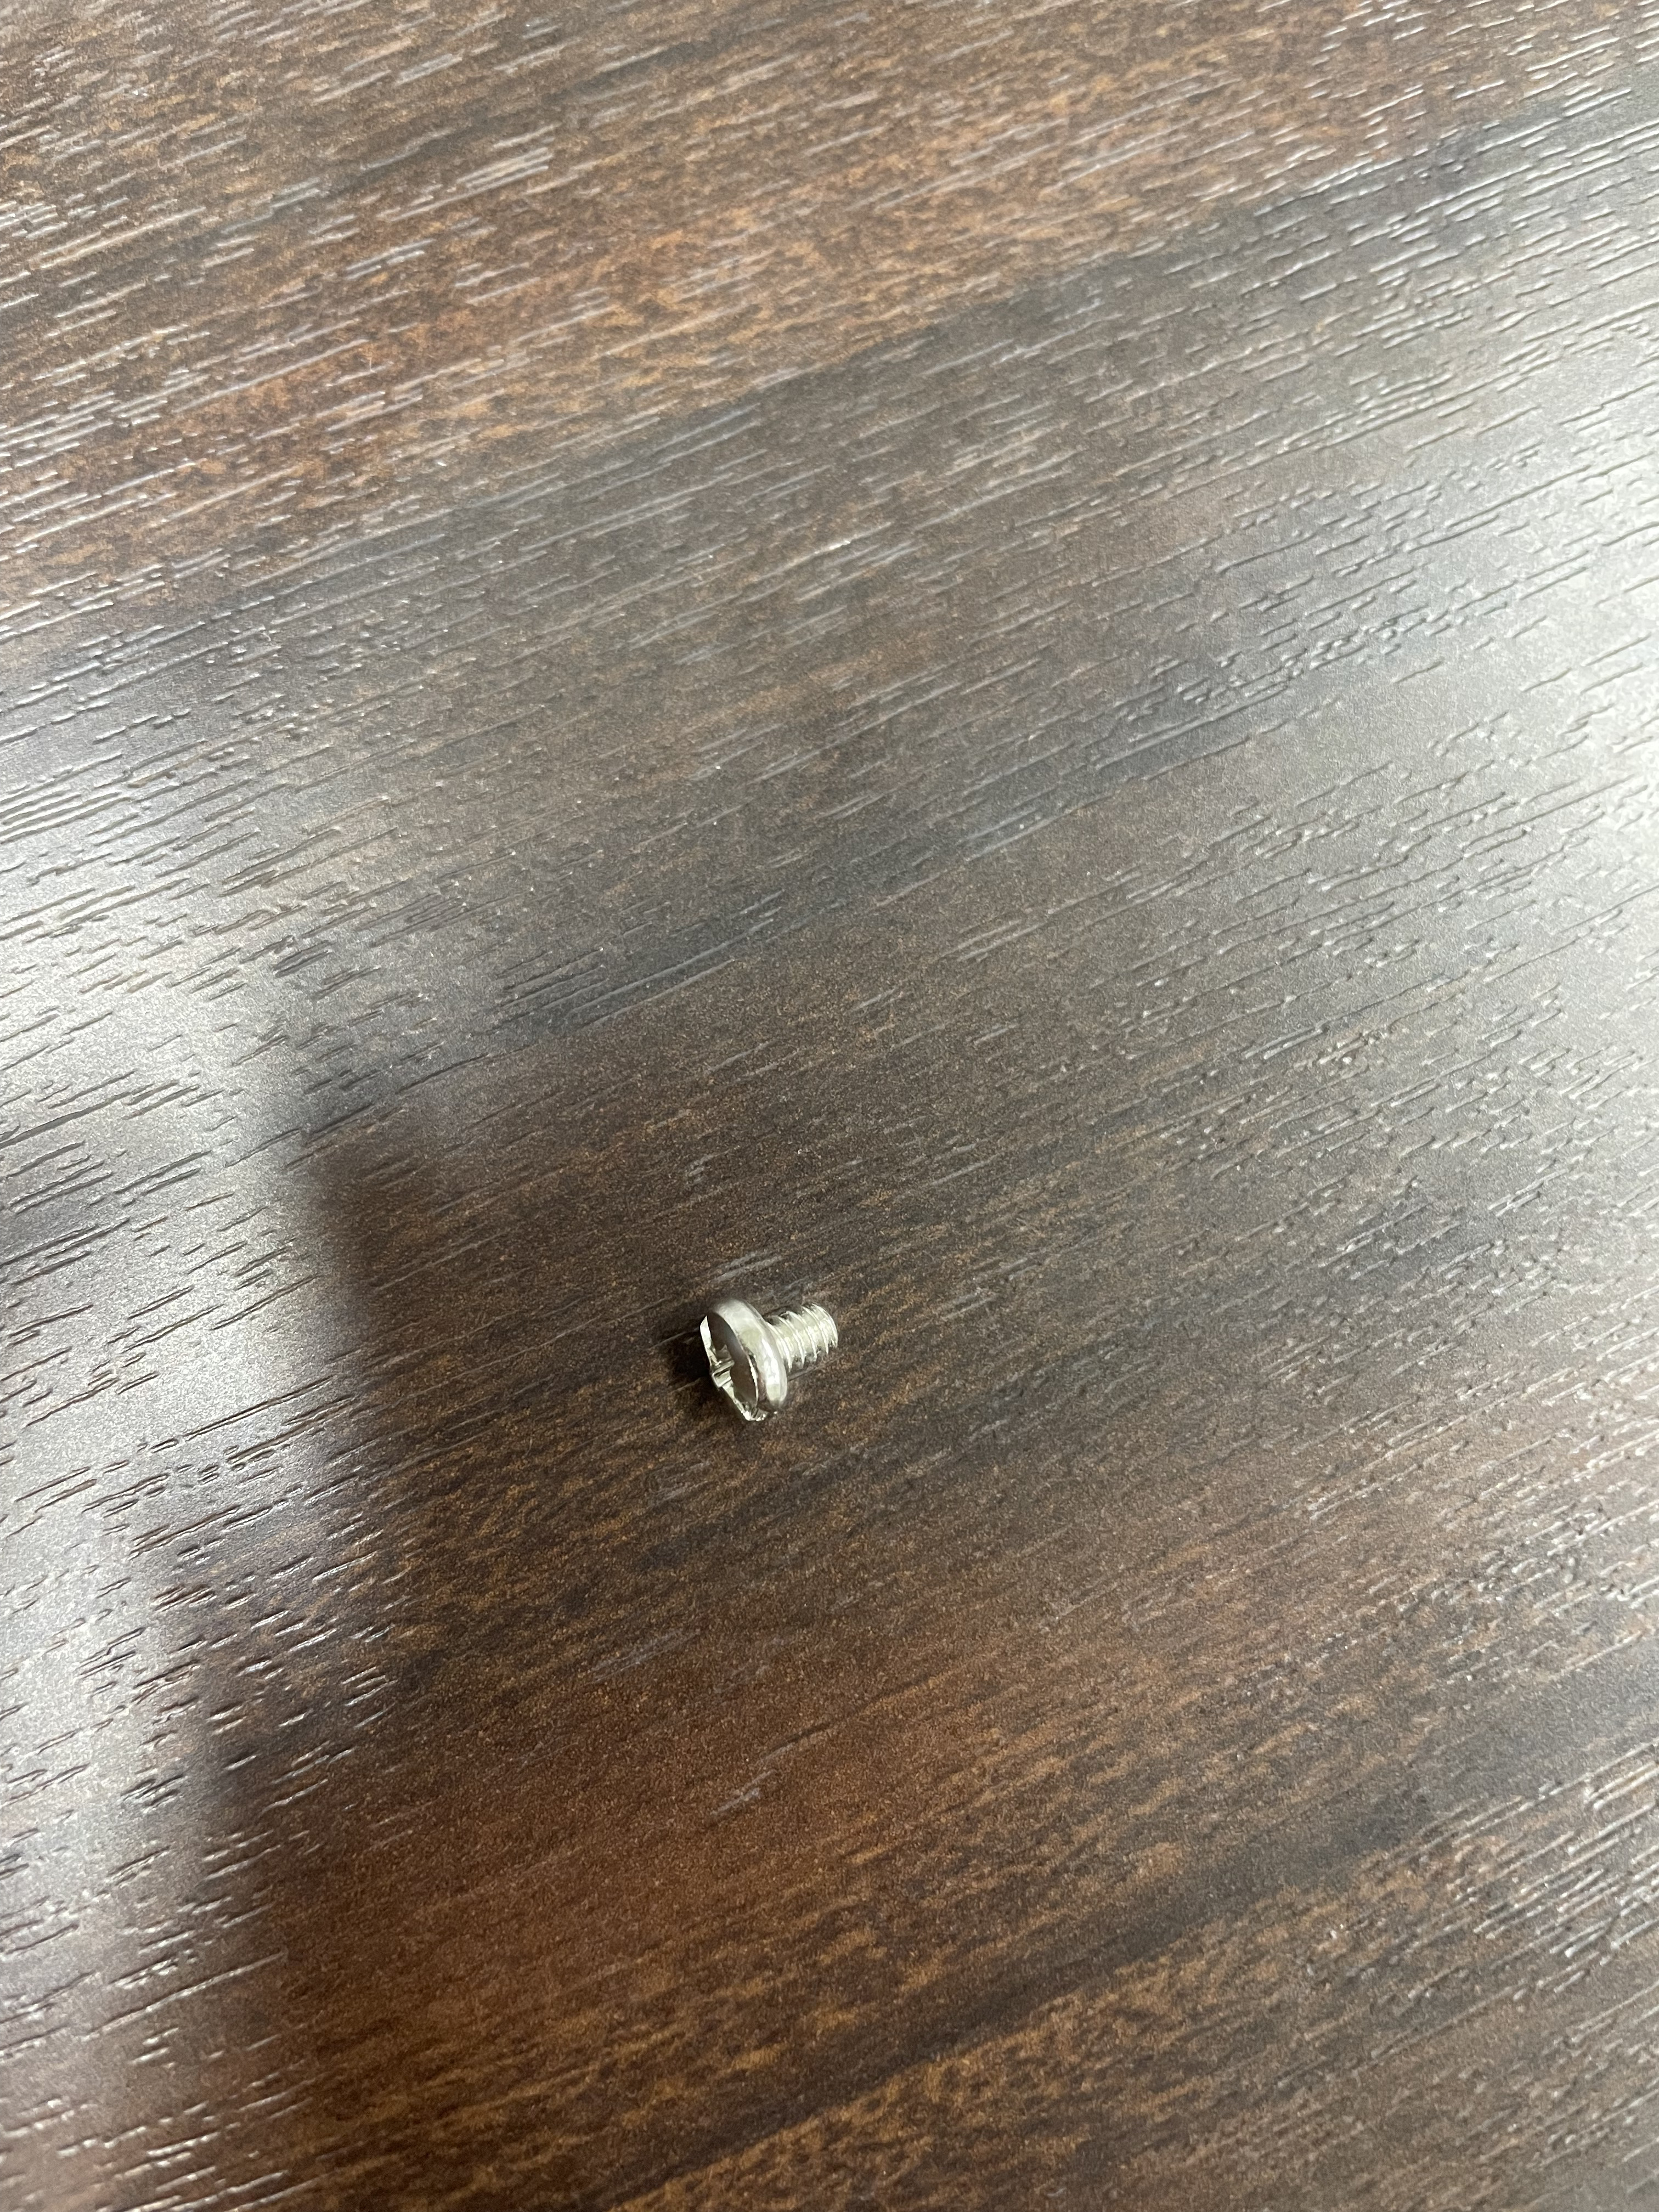screw4: (695, 1294, 847, 1426)
